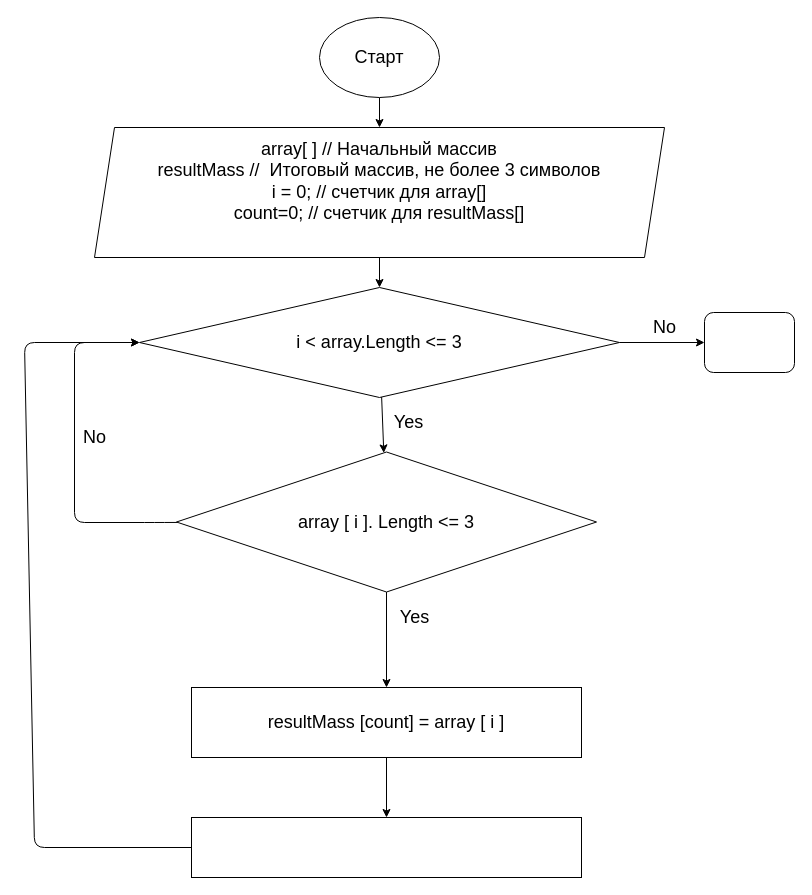
The diagram is 812 pixels wide and 895 high, and some of its shapes have lost their labels. Here are the shapes that lost their labels. From the top down, the centre of each, then its label:
pixel 749 342: Конец
pixel 386 847: count = count + 1
